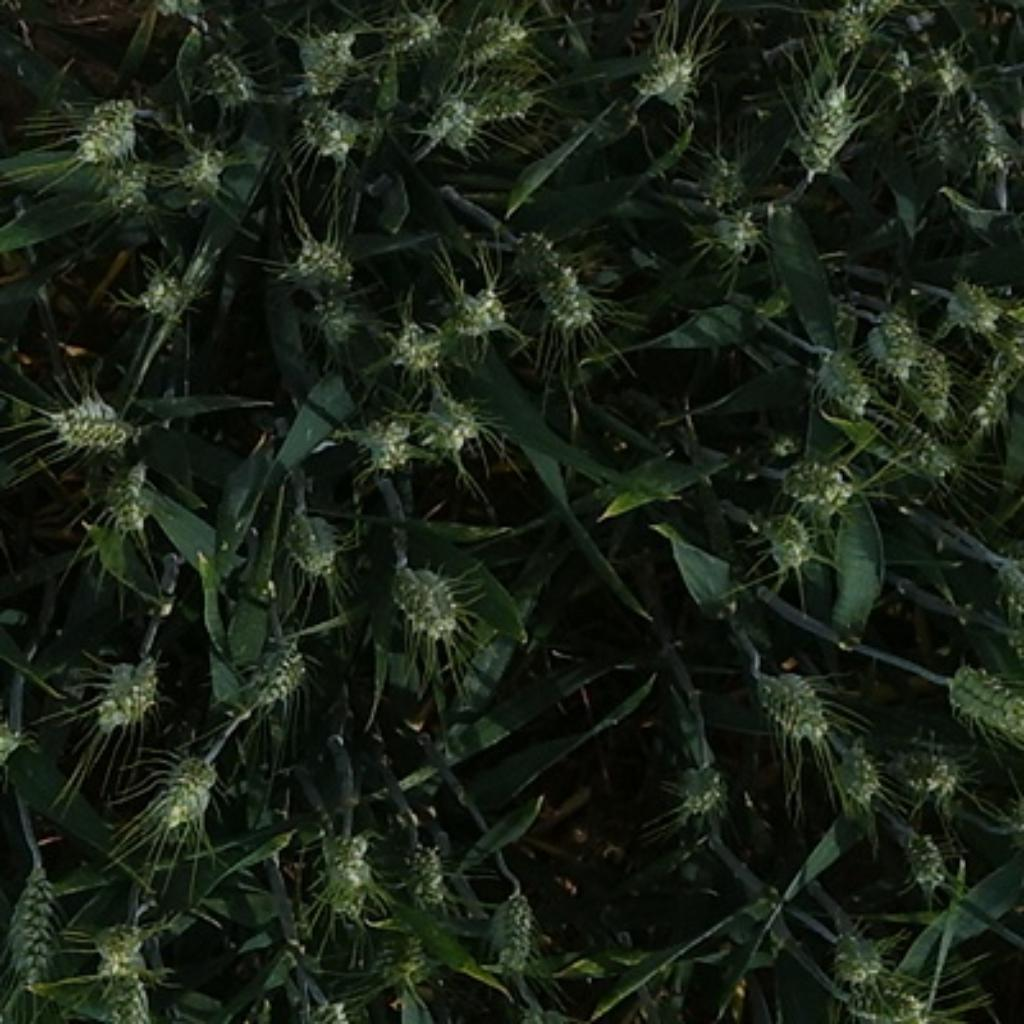0-0: (509, 230, 594, 332), (146, 743, 231, 843), (952, 97, 1024, 215), (785, 71, 862, 174), (7, 874, 65, 1001), (939, 655, 1024, 737), (232, 622, 312, 709), (87, 645, 166, 732), (128, 250, 217, 327), (378, 819, 455, 908), (309, 821, 381, 916), (748, 663, 834, 742), (88, 927, 158, 1024), (747, 491, 829, 573), (84, 448, 161, 535), (453, 2, 542, 76), (43, 389, 138, 458), (64, 89, 145, 168), (384, 565, 467, 642), (819, 921, 916, 985), (478, 880, 545, 972), (837, 967, 942, 1024), (627, 35, 706, 110), (775, 445, 855, 519), (373, 0, 458, 69), (409, 381, 488, 455), (878, 739, 972, 801), (417, 76, 488, 158), (276, 225, 360, 294), (176, 30, 256, 102), (460, 58, 540, 130), (296, 286, 376, 358), (294, 87, 371, 161), (343, 401, 422, 471), (870, 294, 924, 394), (289, 25, 360, 99), (275, 503, 345, 578), (665, 752, 737, 824), (803, 337, 872, 412), (816, 732, 885, 806), (885, 430, 975, 486), (970, 337, 1024, 430), (906, 340, 960, 430), (890, 821, 957, 890), (698, 215, 773, 276), (376, 314, 453, 373), (453, 276, 514, 345), (921, 38, 973, 117), (862, 53, 936, 104), (811, 15, 867, 79), (97, 161, 156, 220), (942, 273, 1003, 330), (696, 151, 750, 209), (174, 138, 225, 197), (994, 622, 1024, 678), (1004, 546, 1024, 620)
